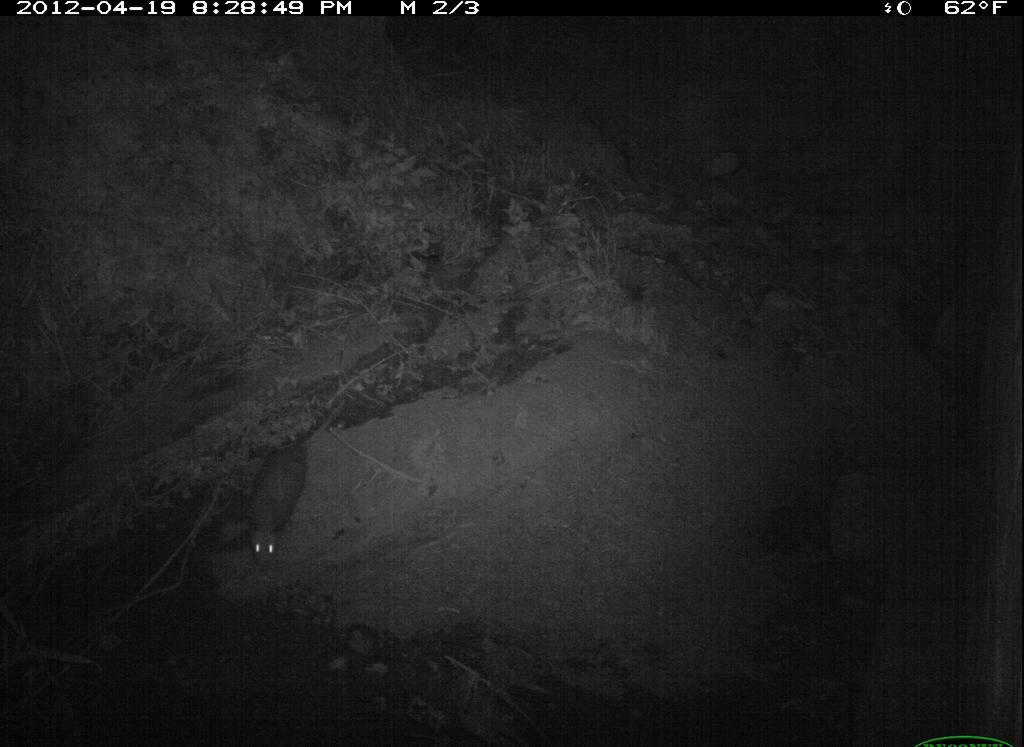opossum: (218, 373, 349, 594)
